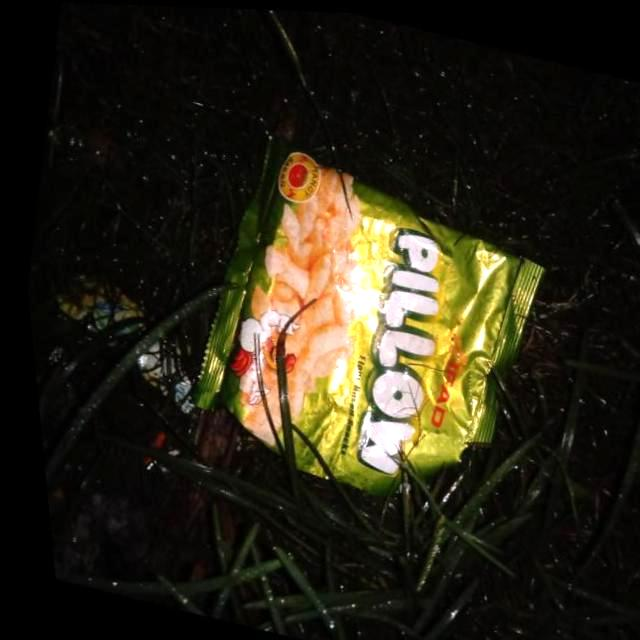packet: (158, 142, 560, 531)
